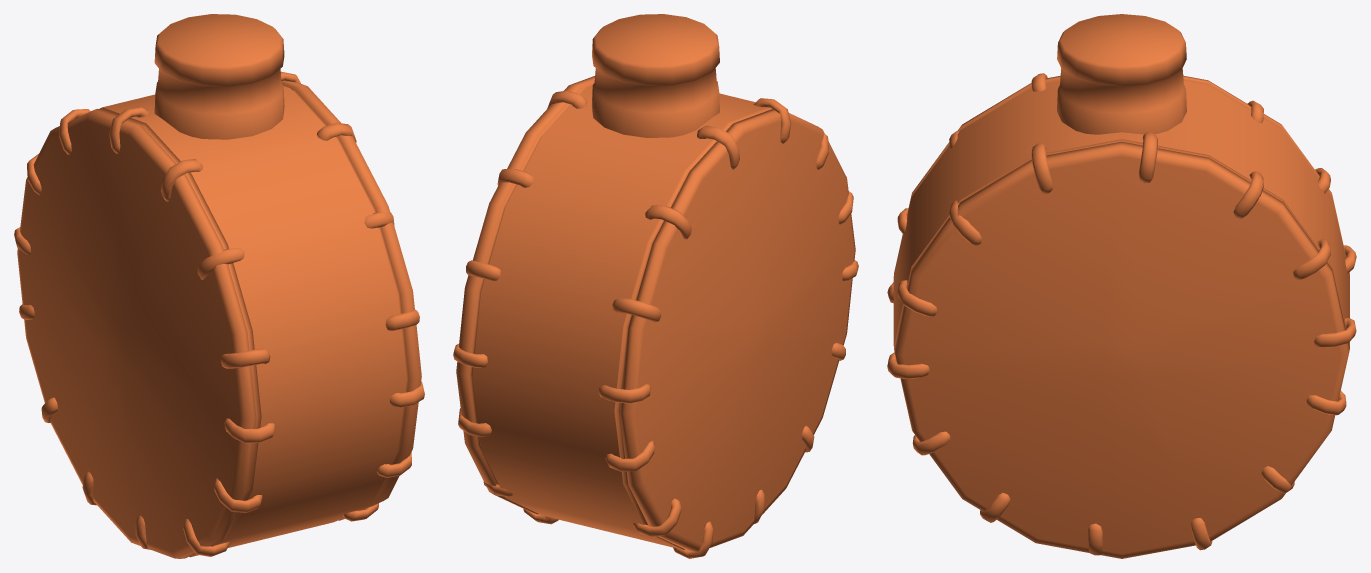
The model's file is gourde.fbx.
3 views of the same model, side by side, from view 1: azimuth 30°, elevation 25°; view 2: azimuth 150°, elevation 25°; view 3: azimuth 270°, elevation 25° (orthographic).
Parts seen in each view (by area): view 1: flask; view 2: flask; view 3: flask.
Boxes of the visible parts, left/top/right/bottom form: flask: left=14, top=14, right=424, bottom=558; flask: left=453, top=14, right=858, bottom=558; flask: left=887, top=14, right=1356, bottom=558.
Size of the model in its own units: 103 by 230 by 203.
